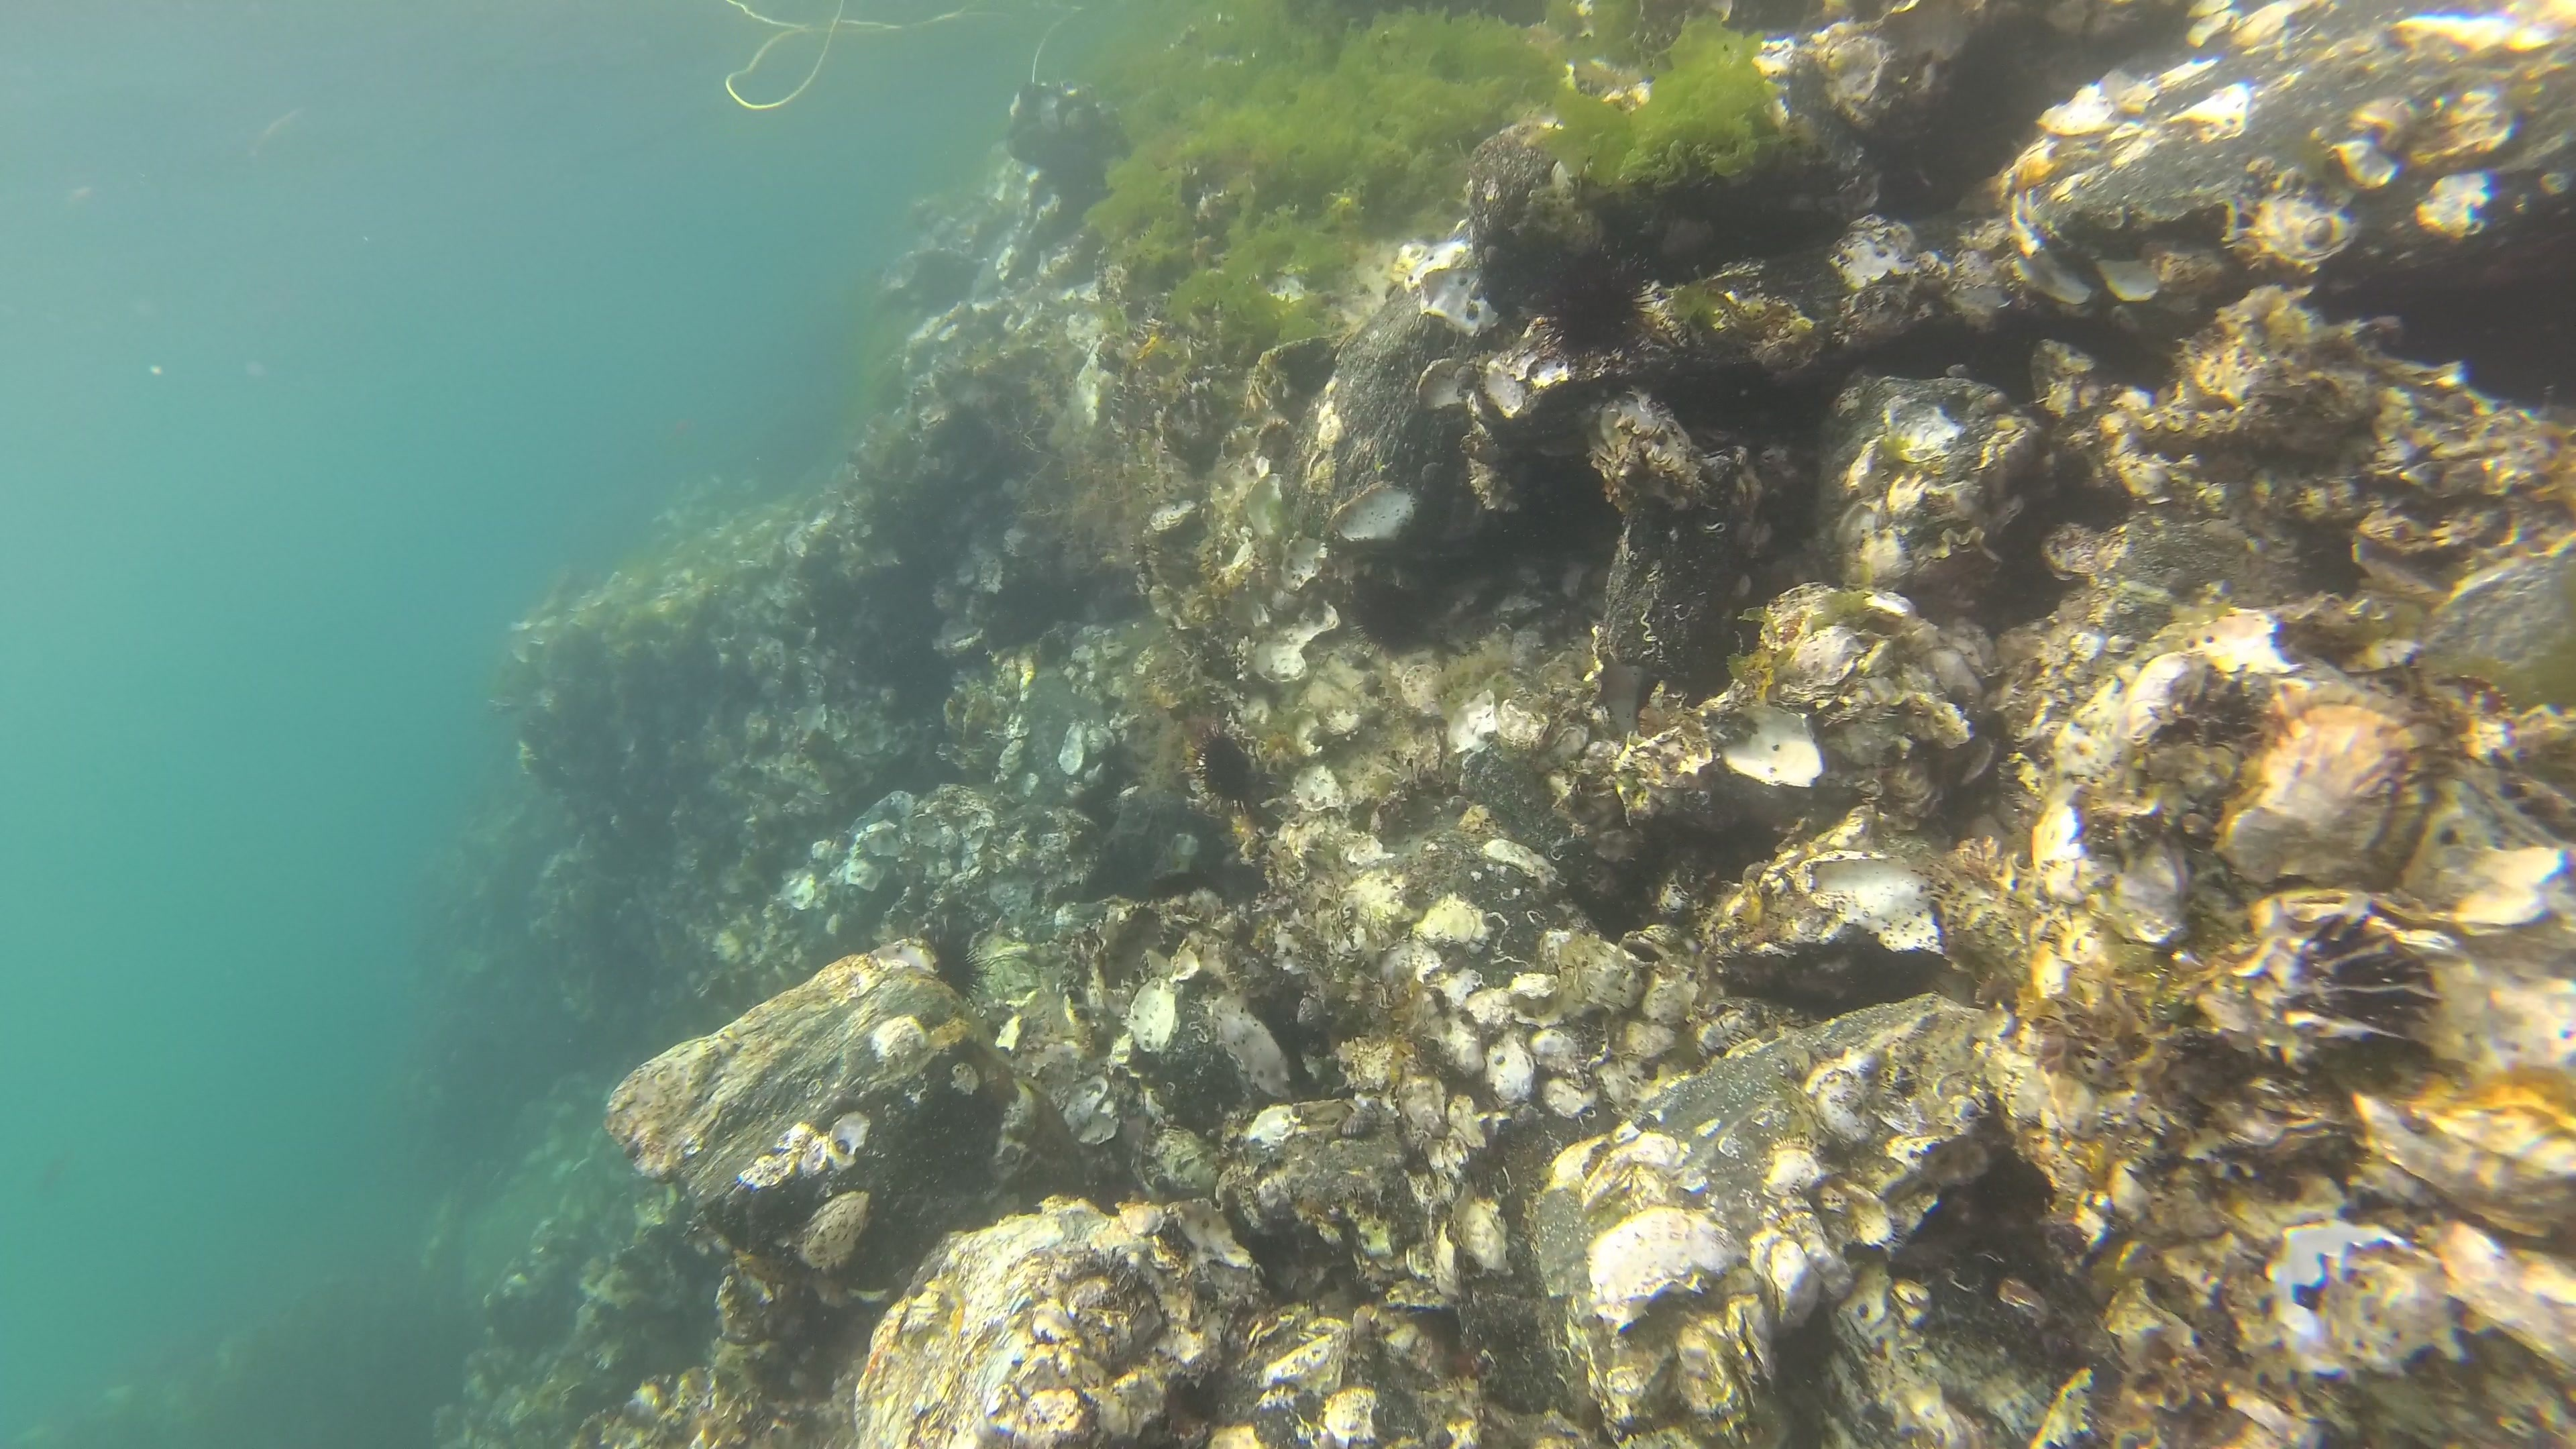echinus: (1191, 725, 1260, 816), (1355, 582, 1422, 655), (927, 948, 994, 1003)
